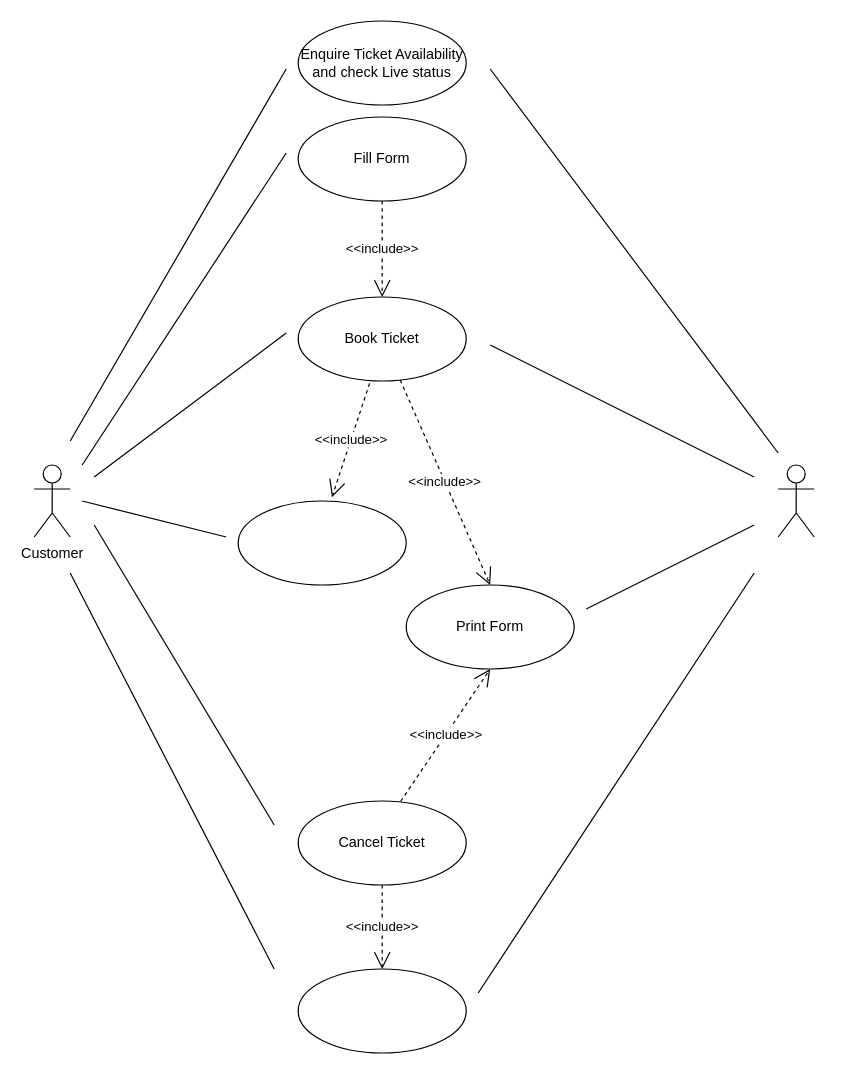
This 868x1074 diagram has some shape labels left out. Each missing label, with the box of its shape:
Pay Amount: (237, 500, 406, 585)
Railway System: (777, 464, 814, 537)
Refund Money: (297, 968, 466, 1053)
